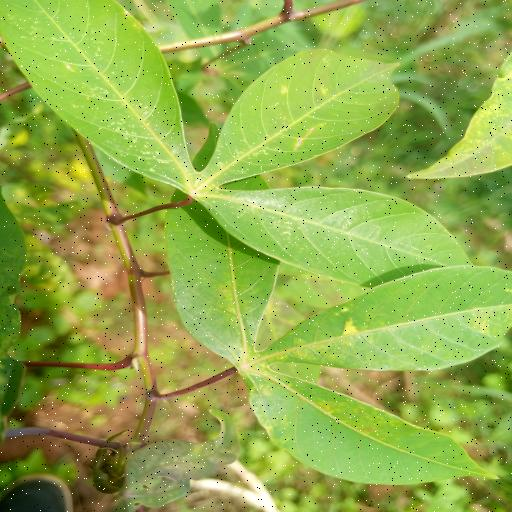Cassava_Mosaic: (0, 0, 512, 295), (168, 124, 512, 488)
